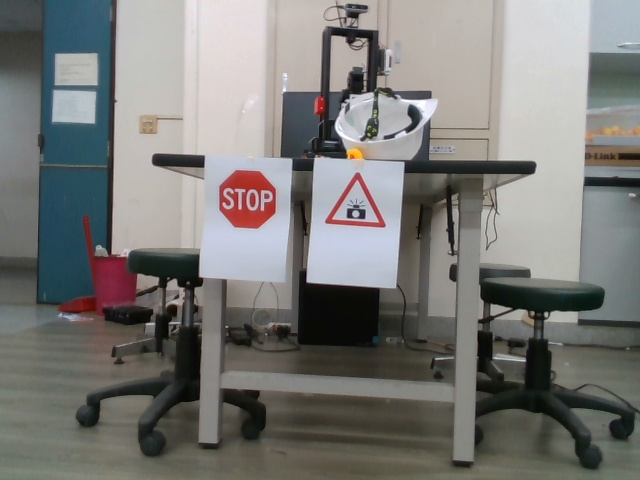camera: (323, 171, 387, 233)
helmet: (333, 87, 440, 161)
stop: (216, 168, 281, 234)
